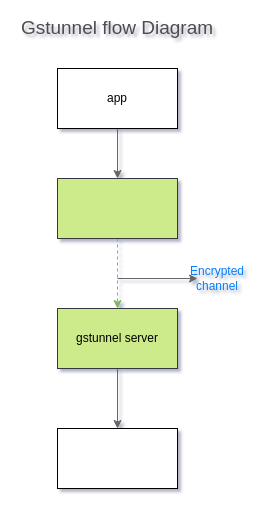
The diagram is 267 pixels wide and 512 high, and some of its shapes have lost their labels. The box of each missing label's shape, as (x1, y1, x2, y2) in pixels:
gstunnel client: (56, 178, 178, 238)
http proxy server: (56, 428, 178, 488)
